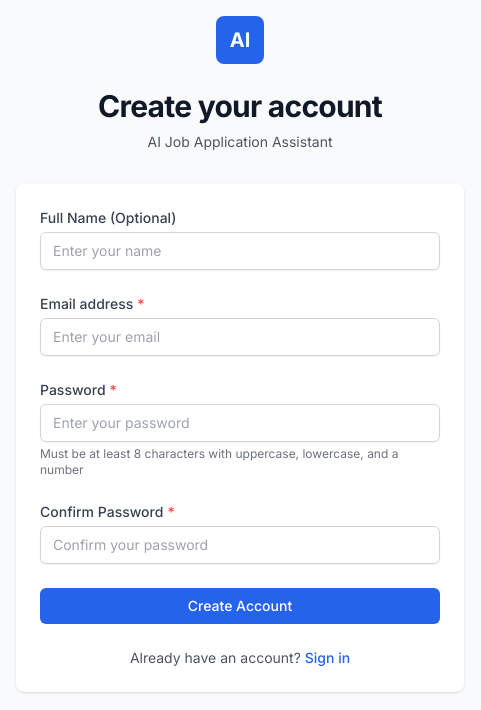
Test: Register › validates password length
The width and height of the screenshot is (481, 710).
Step 1. Type "test@example.com" into the field labelled "Email address*" → (240, 337), box [40,318,440,356]
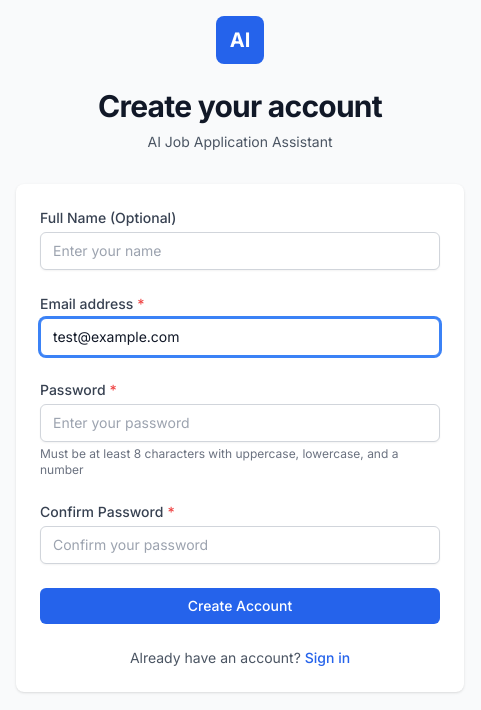
Step 2. Type "Short1" into the password field labelled "Password*" → (240, 423), box [40,404,440,442]
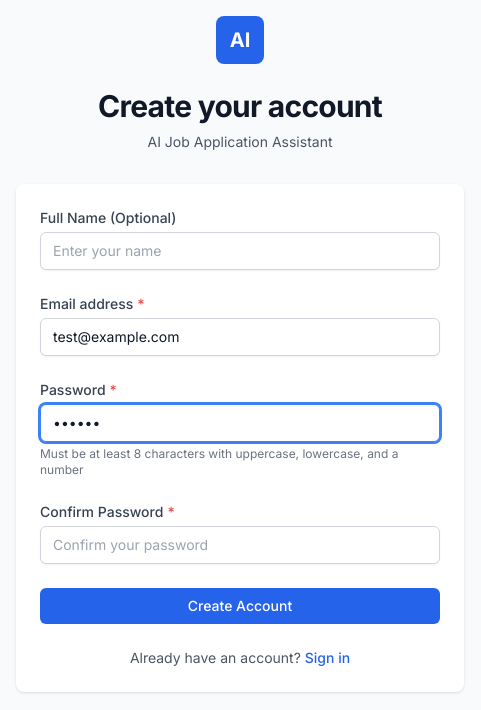
Step 3. Type "Short1" into the password field labelled "Confirm Password*" → (240, 545), box [40,526,440,564]
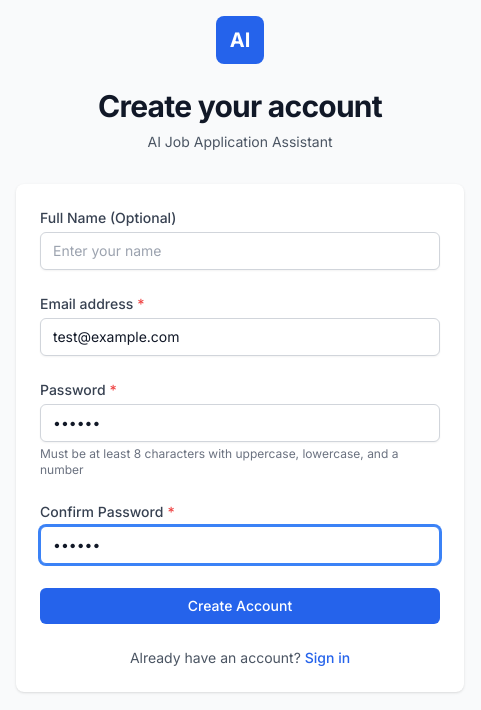
Step 4. Click the button "Create Account" → (240, 606), box [40,588,440,624]
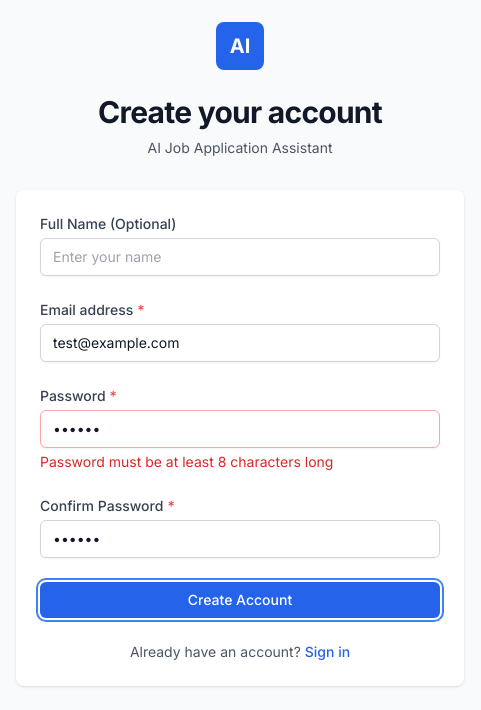
Expected: the text "Password must be at least 8 characters long" is shown, [40,453,333,470]
